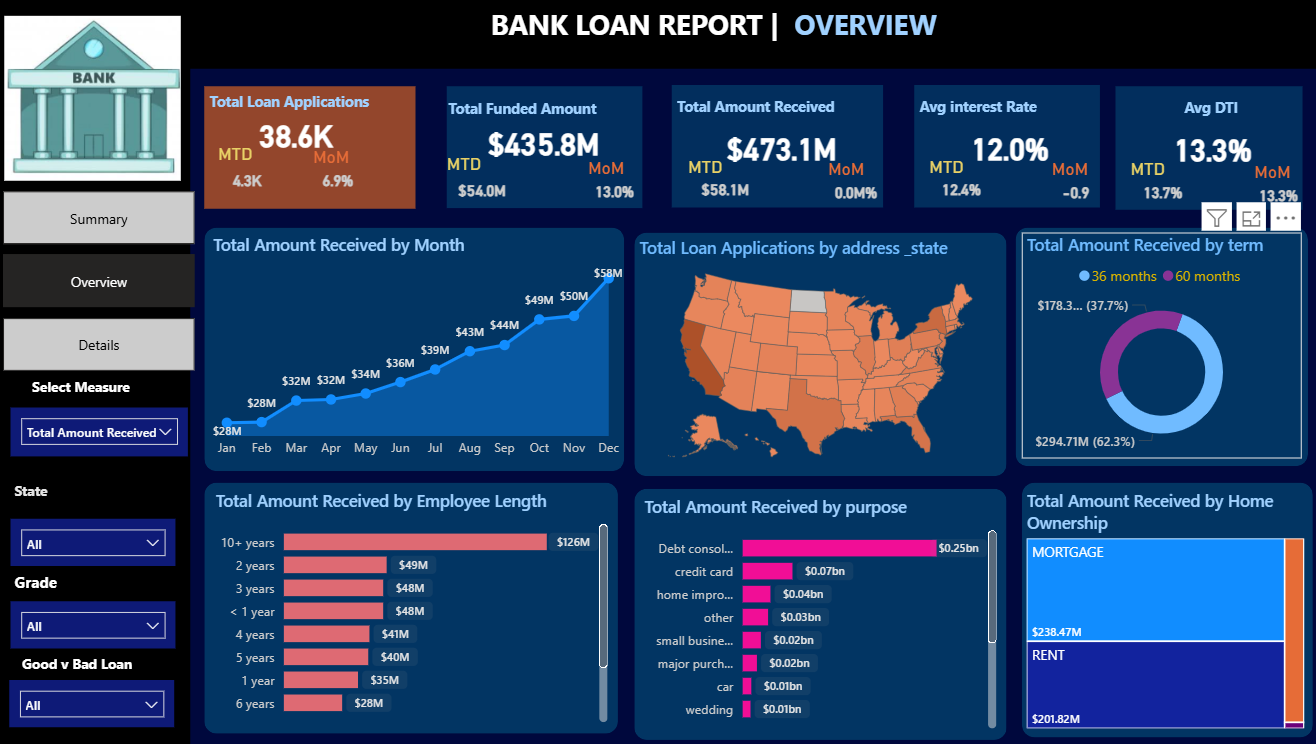

This screenshot's page, from the dashboard's own definition file:
{"tool":"powerbi","page":{"name":"Overview","canvas":[1280,720],"ordinal":1},"visuals":[{"type":"shape","box":[0,0,1280,66.4],"z":0},{"type":"shape","box":[655.1,82,204,118.2],"z":0,"group":"g1"},{"type":"shape","box":[889.1,82,179.3,118.2],"z":0,"group":"g3"},{"type":"shape","box":[438.1,83.2,189,118],"z":0,"group":"g2"},{"type":"shape","box":[1083.4,83.2,180.5,119.4],"z":0,"group":"g4"},{"type":"shape","box":[0,65.1,190.6,655.1],"z":1000},{"type":"card","fields":{"Values":["Bank_Loan_Data.Total Funded Amount"]},"box":[470.4,115,122.2,47],"z":1000,"group":"g2"},{"type":"card","fields":{"Values":["Bank_Loan_Data.Total Amount Received"]},"box":[696.7,121.3,128,41.5],"z":1000,"group":"g1"},{"type":"card","fields":{"Values":["Bank_Loan_Data.Avg Interest Rate"]},"box":[925.7,121.3,112.6,41.5],"z":1000,"group":"g3"},{"type":"card","fields":{"Values":["Bank_Loan_Data.Avg DTI"]},"box":[1120.3,122.9,113.3,41.9],"z":1000,"group":"g4"},{"type":"textbox","box":[474.8,0,451.5,49.4],"z":2000},{"type":"card","title":"MoM","fields":{"Values":["Bank_Loan_Data.MoM Total Funded Amount"]},"box":[569.4,152.2,61.1,49.4],"z":2000,"group":"g2"},{"type":"card","title":"MoM","fields":{"Values":["Bank_Loan_Data.MoM Total Amount Recieved"]},"box":[801,153.2,64,43.4],"z":2000,"group":"g1"},{"type":"card","title":"MoM","fields":{"Values":["Bank_Loan_Data.MoM Avg Int Rate"]},"box":[1017.4,153.2,56.3,43.4],"z":2000,"group":"g3"},{"type":"card","title":"MoM","fields":{"Values":["Bank_Loan_Data.MoM Avg DTI"]},"box":[1212.5,155.1,56.7,43.9],"z":2000,"group":"g4"},{"type":"shape","box":[203.9,83.2,203.9,118.2],"z":3000},{"type":"textbox","box":[655.4,87.8,208.4,33.8],"z":3000,"group":"g1"},{"type":"textbox","box":[889.4,87.8,183.3,33.8],"z":3000,"group":"g3"},{"type":"textbox","box":[1083.7,89.1,184.5,34.1],"z":3000,"group":"g4"},{"type":"textbox","box":[434.2,90.4,196.2,30],"z":3000,"group":"g2"},{"type":"textbox","box":[203.9,83.2,176.1,31.4],"z":4000},{"type":"card","title":"MTD","fields":{"Values":["Bank_Loan_Data.MTD Funded Amount"]},"box":[433.1,148.5,78.1,54.2],"z":4000,"group":"g2"},{"type":"card","title":"MTD","fields":{"Values":["Bank_Loan_Data.MTD Total Amount Recieved"]},"box":[665.5,150.8,81.9,48.3],"z":4000,"group":"g1"},{"type":"card","title":"MTD","fields":{"Values":["Bank_Loan_Data.MTD Avg Int Rate"]},"box":[898.2,150.8,72,48.3],"z":4000,"group":"g3"},{"type":"card","title":"MTD","fields":{"Values":["Bank_Loan_Data.MTD Avg DTI"]},"box":[1092.6,152.7,72.5,48.8],"z":4000,"group":"g4"},{"type":"card","title":"MoM","fields":{"Values":["Bank_Loan_Data.MoM Loan Applications"]},"box":[304,141.2,57.9,49.5],"z":5000},{"type":"shape","box":[203.9,219.6,405.4,235.3],"z":6000},{"type":"card","fields":{"Values":["Bank_Loan_Data.Total Loan Applications"]},"box":[235.3,105,114.6,49.5],"z":7000},{"type":"card","title":"MTD","fields":{"Values":["Bank_Loan_Data.MTD Loan Applications"]},"box":[212.3,138.7,66.4,54.3],"z":8000},{"type":"group","id":"g1","title":"Group 1","box":[655.1,82,209.9,118.2],"z":9000},{"type":"group","id":"g2","title":"Group 1","box":[433.1,83.2,197.4,119.4],"z":10000},{"type":"group","id":"g3","title":"Group 1","box":[889.1,82,183.4,118.2],"z":11000},{"type":"group","id":"g4","title":"Group 1","box":[1083.4,83.2,185.8,119.4],"z":12000},{"type":"slicer","fields":{"Values":["Bank_Loan_Data.address_state"]},"box":[16.9,500.7,159.3,45.8],"z":13000},{"type":"textbox","box":[15.7,459.7,85.7,36.2],"z":14000},{"type":"slicer","fields":{"Values":["Bank_Loan_Data.grade"]},"box":[16.9,580.3,159.3,45.8],"z":15000},{"type":"textbox","box":[15.7,546.5,78.4,33.8],"z":16000},{"type":"slicer","fields":{"Values":["Bank_Loan_Data.purpose"]},"box":[15.7,656.3,159.3,45.8],"z":17000},{"type":"textbox","box":[22.9,626.1,146,41],"z":18000},{"type":"slicer","fields":{"Values":["Select Measure.Select Measure"]},"box":[16.9,393.3,171.3,47.1],"z":19000},{"type":"textbox","box":[32.6,359.5,136.3,33.8],"z":20000},{"type":"areaChart","fields":{"Y":["Bank_Loan_Data.Total Amount Received"],"Category":["Date Table.Month"]},"box":[207.5,224.4,405.4,225.6],"z":21000},{"type":"shape","box":[618.9,224.4,359.5,235.3],"z":22000},{"type":"shapeMap","title":"Total Loan Applications by address _state","fields":{"Value":["Bank_Loan_Data.Total Amount Received"],"Category":["Bank_Loan_Data.address_state"]},"box":[618.9,228,359.5,228],"z":23000},{"type":"shape","box":[986.9,219.6,282.3,230.4],"z":24000},{"type":"donutChart","fields":{"Y":["Bank_Loan_Data.Total Amount Received"],"Category":["Bank_Loan_Data.term"]},"box":[992.9,224.4,270.2,218.4],"z":25000},{"type":"shape","box":[203.9,465.7,399.3,242.5],"z":26000},{"type":"barChart","fields":{"Y":["Bank_Loan_Data.Total Amount Received"],"Category":["Bank_Loan_Data.emp_length"]},"box":[209.9,471.7,388.5,230.4],"z":27000},{"type":"shape","box":[618.9,471.7,359.5,242.5],"z":28000},{"type":"barChart","fields":{"Y":["Bank_Loan_Data.Total Amount Received"],"Category":["Bank_Loan_Data.purpose"]},"box":[623.7,477.8,349.9,230.4],"z":29000},{"type":"shape","box":[992.9,465.7,281.1,246.1],"z":30000},{"type":"treemap","fields":{"Values":["Bank_Loan_Data.Total Amount Received"],"Group":["Bank_Loan_Data.home_ownership"]},"box":[992.9,471.7,277.5,236.5],"z":31000},{"type":"pageNavigator","box":[9.7,184.6,185.8,174.9],"z":32000},{"type":"image","box":[10.9,12.1,170.1,165.3],"z":33000}]}

Visuals, with their boxes in screenshot pixels (x1, y1, x2, y2), scaled from the page's 1280x720 canvas onto the 1316x744 screenshot:
shape: 0 0 1315 69
shape: 674 85 883 207
shape: 914 85 1098 207
shape: 450 86 645 208
shape: 1114 86 1299 209
shape: 0 67 196 743
card - Bank_Loan_Data.Total Funded Amount: 484 119 609 167
card - Bank_Loan_Data.Total Amount Received: 716 125 848 168
card - Bank_Loan_Data.Avg Interest Rate: 952 125 1068 168
card - Bank_Loan_Data.Avg DTI: 1152 127 1268 170
textbox: 488 0 952 51
"MoM" card: 585 157 648 208
"MoM" card: 824 158 889 203
"MoM" card: 1046 158 1104 203
"MoM" card: 1247 160 1305 206
shape: 210 86 419 208
textbox: 674 91 888 126
textbox: 914 91 1103 126
textbox: 1114 92 1304 127
textbox: 446 93 648 124
textbox: 210 86 391 118
"MTD" card: 445 153 526 209
"MTD" card: 684 156 768 206
"MTD" card: 923 156 997 206
"MTD" card: 1123 158 1198 208
"MoM" card: 313 146 372 197
shape: 210 227 626 470
card - Bank_Loan_Data.Total Loan Applications: 242 109 360 160
"MTD" card: 218 143 287 199
"Group 1" group: 674 85 889 207
"Group 1" group: 445 86 648 209
"Group 1" group: 914 85 1103 207
"Group 1" group: 1114 86 1305 209
slicer - Bank_Loan_Data.address_state: 17 517 181 565
textbox: 16 475 104 512
slicer - Bank_Loan_Data.grade: 17 600 181 647
textbox: 16 565 97 600
slicer - Bank_Loan_Data.purpose: 16 678 180 726
textbox: 24 647 174 689
slicer - Select Measure.Select Measure: 17 406 193 455
textbox: 34 371 174 406
areaChart - Bank_Loan_Data.Total Amount Received x Date Table.Month: 213 232 630 465
shape: 636 232 1006 475
"Total Loan Applications by address _state" shapeMap: 636 236 1006 471
shape: 1015 227 1305 465
donutChart - Bank_Loan_Data.Total Amount Received x Bank_Loan_Data.term: 1021 232 1299 458
shape: 210 481 620 732
barChart - Bank_Loan_Data.Total Amount Received x Bank_Loan_Data.emp_length: 216 487 615 726
shape: 636 487 1006 738
barChart - Bank_Loan_Data.Total Amount Received x Bank_Loan_Data.purpose: 641 494 1001 732
shape: 1021 481 1310 736
treemap - Bank_Loan_Data.Total Amount Received x Bank_Loan_Data.home_ownership: 1021 487 1306 732
pageNavigator: 10 191 201 371
image: 11 13 186 183
